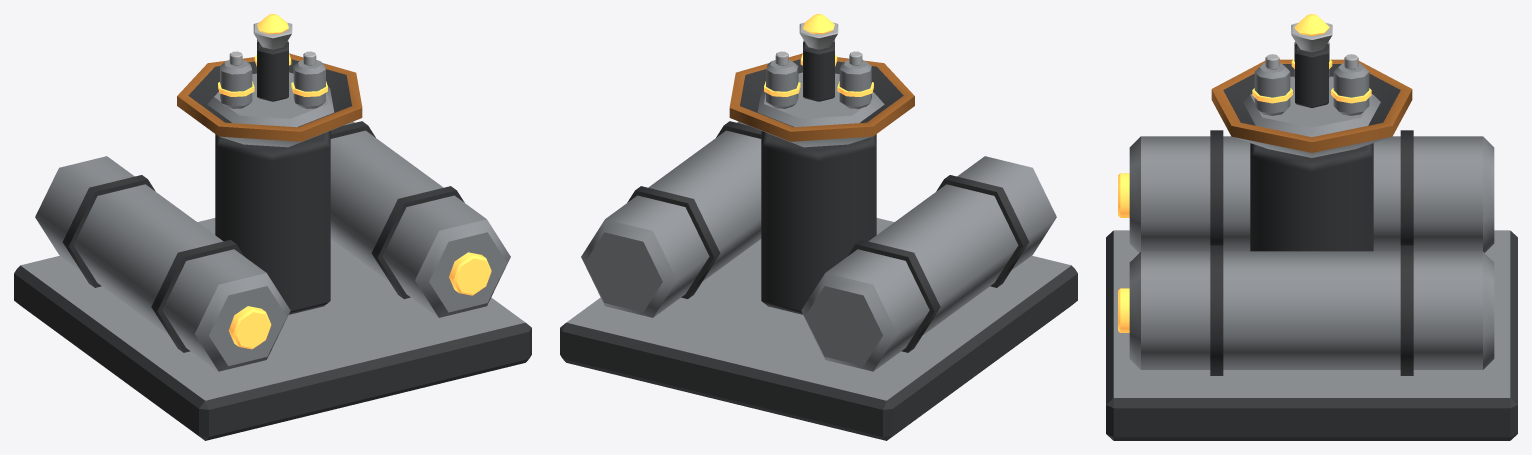
File: R4X_BurnTrapDeployer_LOD1.fbx
3 renders of one model, left to right at view 1: azimuth 30°, elevation 25°; view 2: azimuth 150°, elevation 25°; view 3: azimuth 270°, elevation 25°, orthographic. The views are drawn at different scales.
Visible parts, largest first — view 1: R4X_BurnTrapDeployer_LOD1; view 2: R4X_BurnTrapDeployer_LOD1; view 3: R4X_BurnTrapDeployer_LOD1.
Part boxes in pixels (x1,y1,x2,y2): R4X_BurnTrapDeployer_LOD1: (14,14,531,440); R4X_BurnTrapDeployer_LOD1: (560,14,1077,440); R4X_BurnTrapDeployer_LOD1: (1106,14,1517,440).
Bounding box in the file's own units: 0.52 × 0.476 × 0.52.
